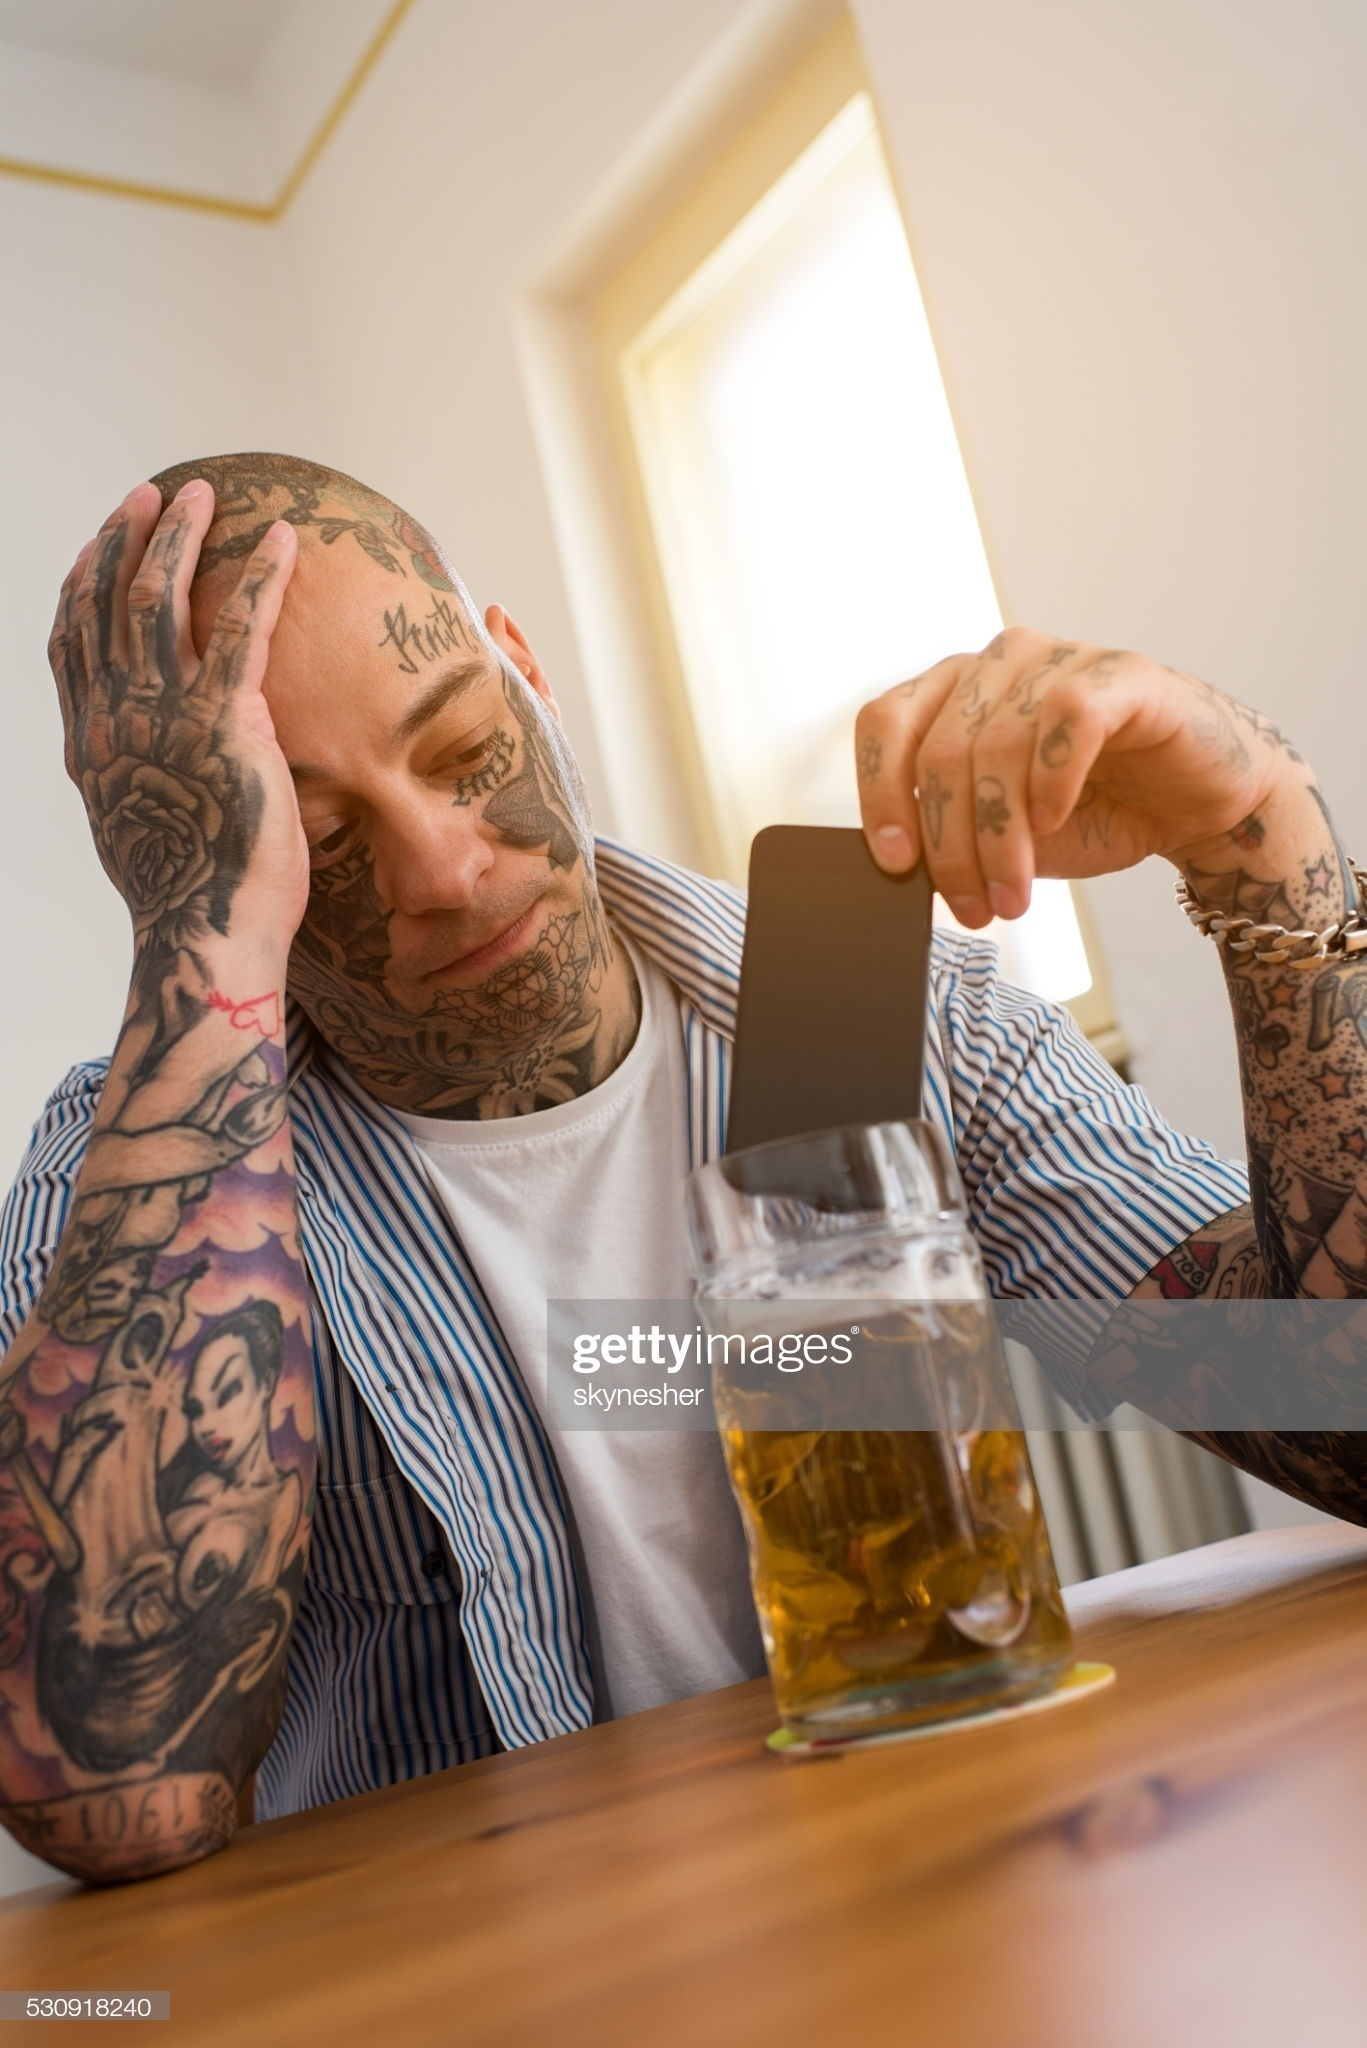whiskey: (691, 1176, 1100, 1703)
